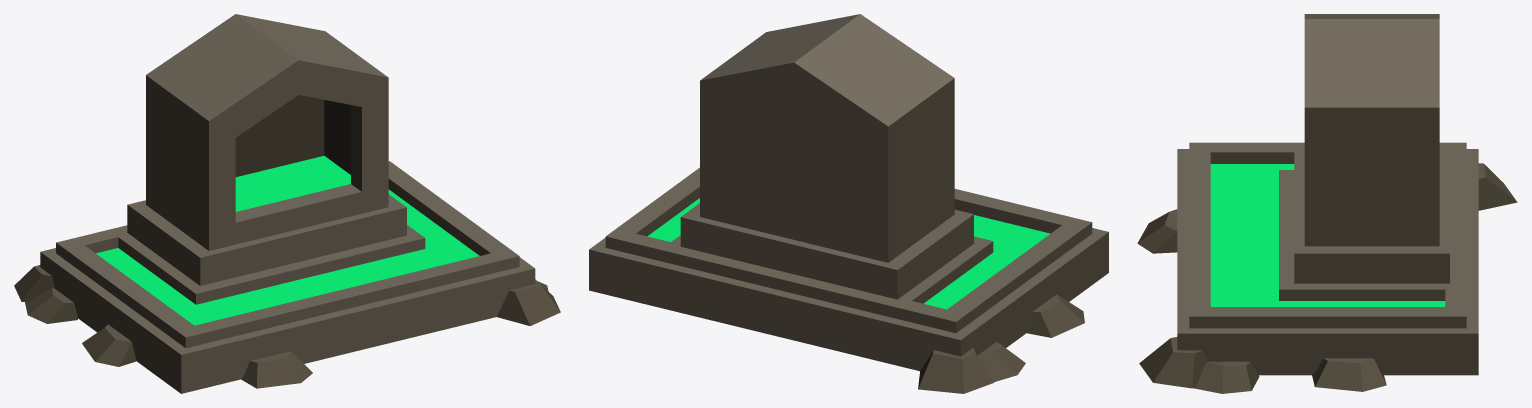
The model's file is ManmadeMore_SF_Prop_Undead_Forge_01.fbx.
3 renders of one model, left to right at view 1: azimuth 30°, elevation 25°; view 2: azimuth 150°, elevation 25°; view 3: azimuth 270°, elevation 25°, orthographic. The views are drawn at different scales.
Parts seen in each view (by area): view 1: SF_Prop_Undead_Forge_01; view 2: SF_Prop_Undead_Forge_01; view 3: SF_Prop_Undead_Forge_01.
Part boxes in pixels (x1=…): SF_Prop_Undead_Forge_01: x1=14, y1=14, x2=560, y2=393; SF_Prop_Undead_Forge_01: x1=589, y1=14, x2=1108, y2=393; SF_Prop_Undead_Forge_01: x1=1137, y1=14, x2=1517, y2=393.
Size of the model in its own units: 459 by 259 by 336.
